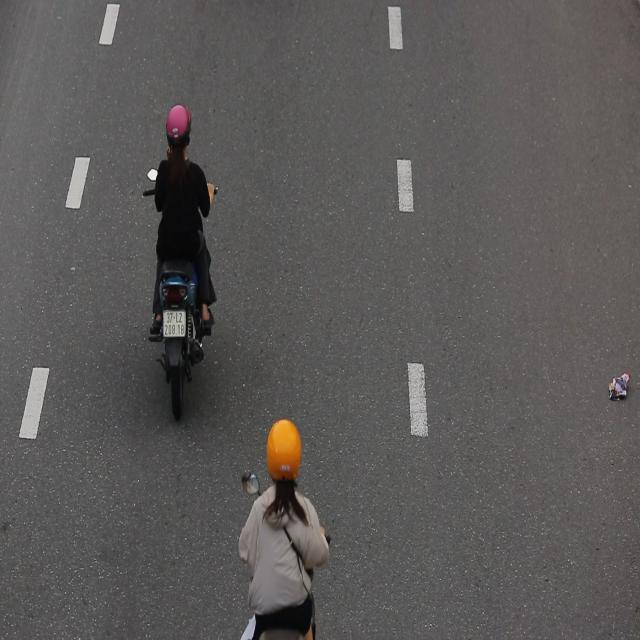motorbike: (138, 87, 233, 428)
